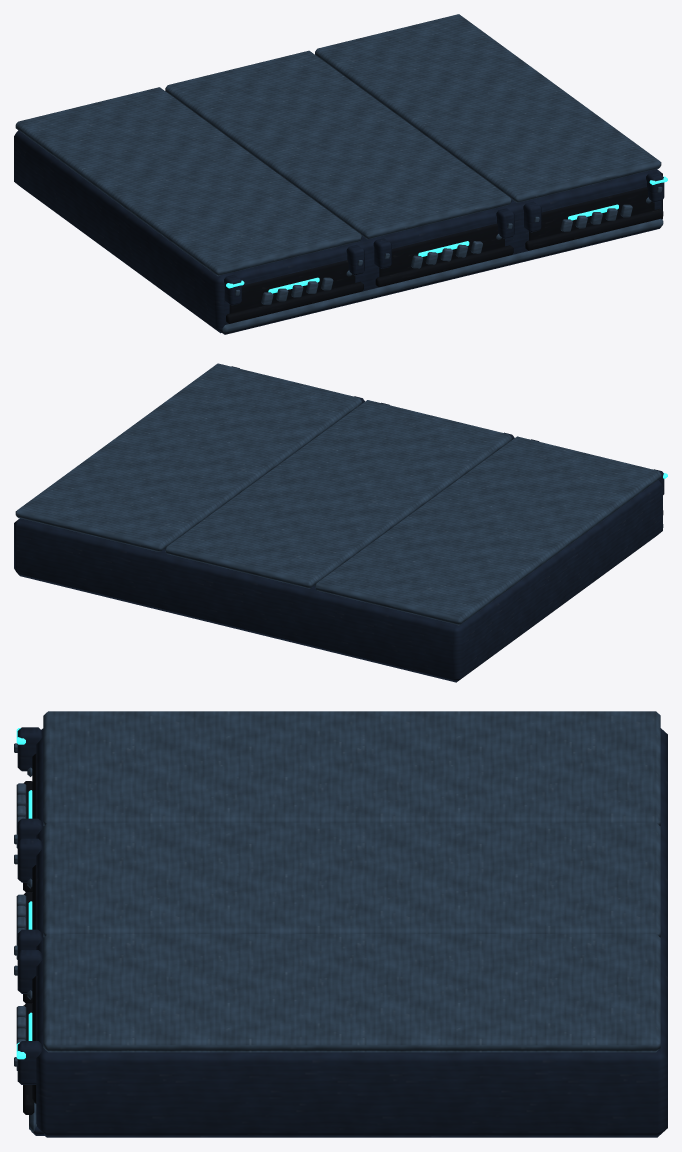
Rendered from deck.glb.
3 renders of one model, top to bottom at view 1: azimuth 30°, elevation 25°; view 2: azimuth 150°, elevation 25°; view 3: azimuth 270°, elevation 25°, orthographic. The views are drawn at different scales.
Parts seen in each view (by area): view 1: deck - Brushed gunmetal, deck - Blue steel, deck - Recessed iron, deck - Cool perimeter LEDs; view 2: deck - Brushed gunmetal, deck - Blue steel; view 3: deck - Brushed gunmetal, deck - Blue steel, deck - Recessed iron.
Part boxes in pixels (box(x1,y1,x2,y2)): deck - Brushed gunmetal: box(15, 14, 663, 332); deck - Blue steel: box(14, 130, 664, 334); deck - Recessed iron: box(226, 187, 663, 323); deck - Cool perimeter LEDs: box(226, 176, 667, 293); deck - Brushed gunmetal: box(15, 363, 663, 625); deck - Blue steel: box(14, 366, 664, 682); deck - Brushed gunmetal: box(14, 711, 660, 1132); deck - Blue steel: box(17, 727, 667, 1137); deck - Recessed iron: box(23, 754, 36, 1114).
Bounding box in the file's own units: 5.99 × 0.84 × 4.97.
4 materials, 3 textured.
